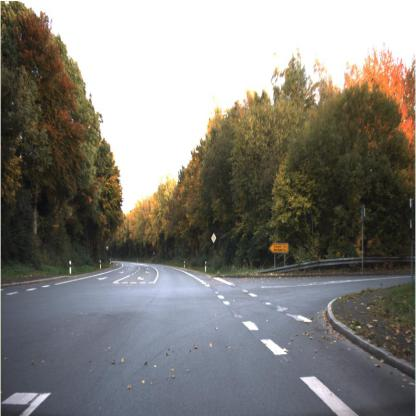other: (209, 228, 218, 247)
